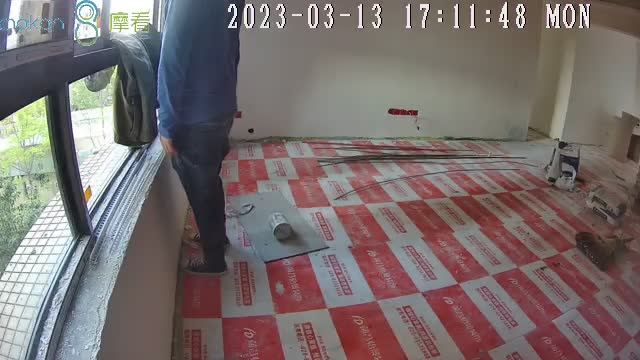people: (159, 1, 239, 276)
window: (1, 1, 161, 360)
